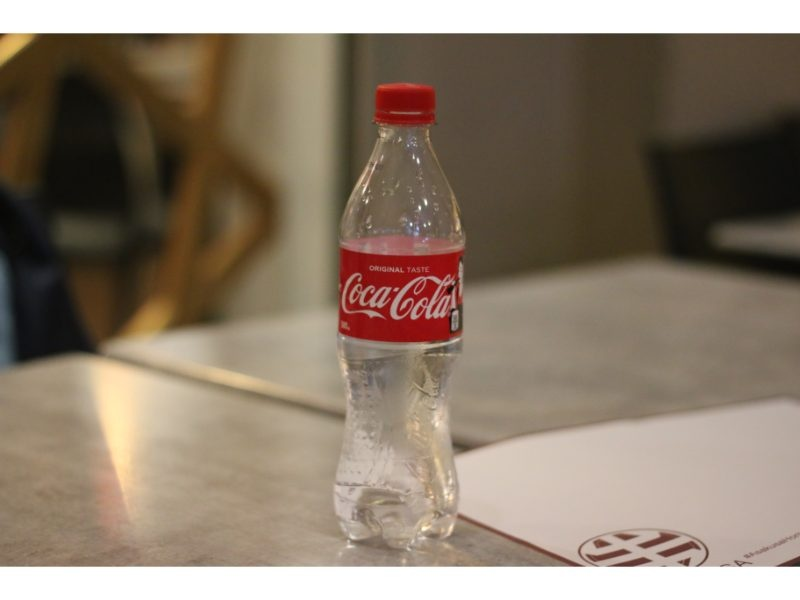PET #1: (338, 78, 461, 556)
